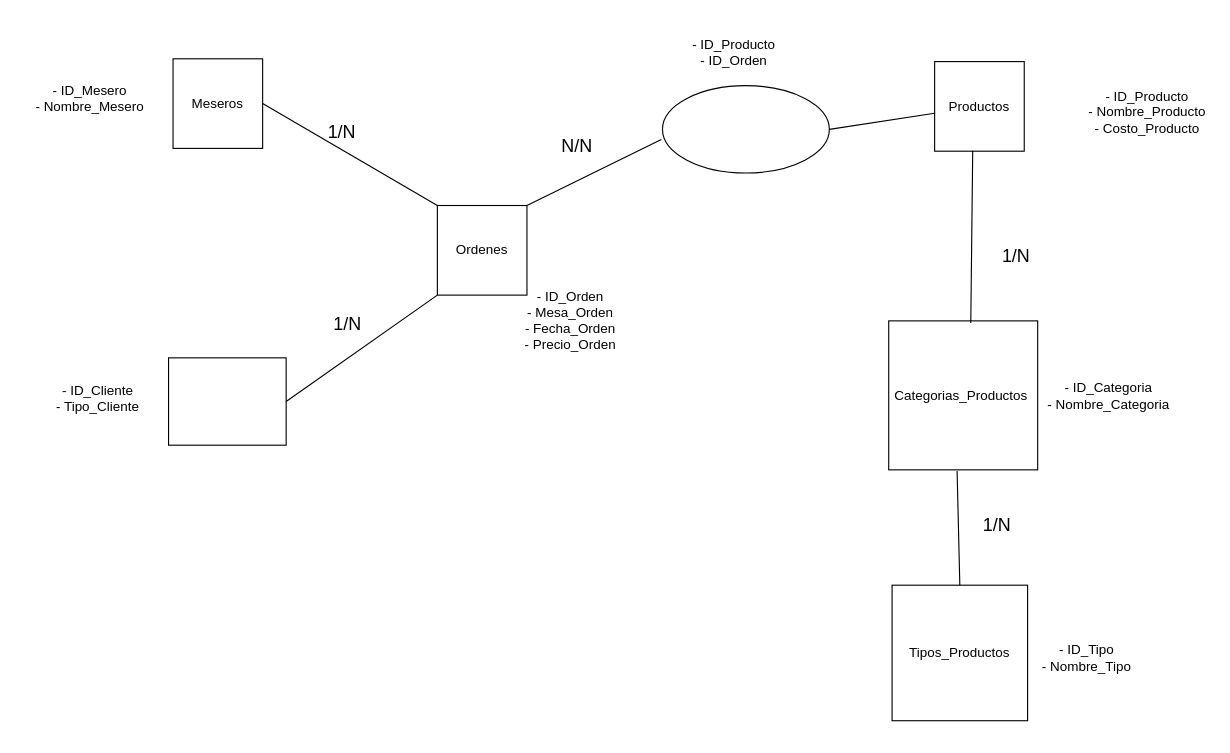
Image size: 1230x753. Some labels were removed from this diagram. Here are the shapes that lost their labels. From the top down, the centre of each, then its label:
At pixel 745 129: "Productos Ordenes".
At pixel 226 401: "Clientes".
